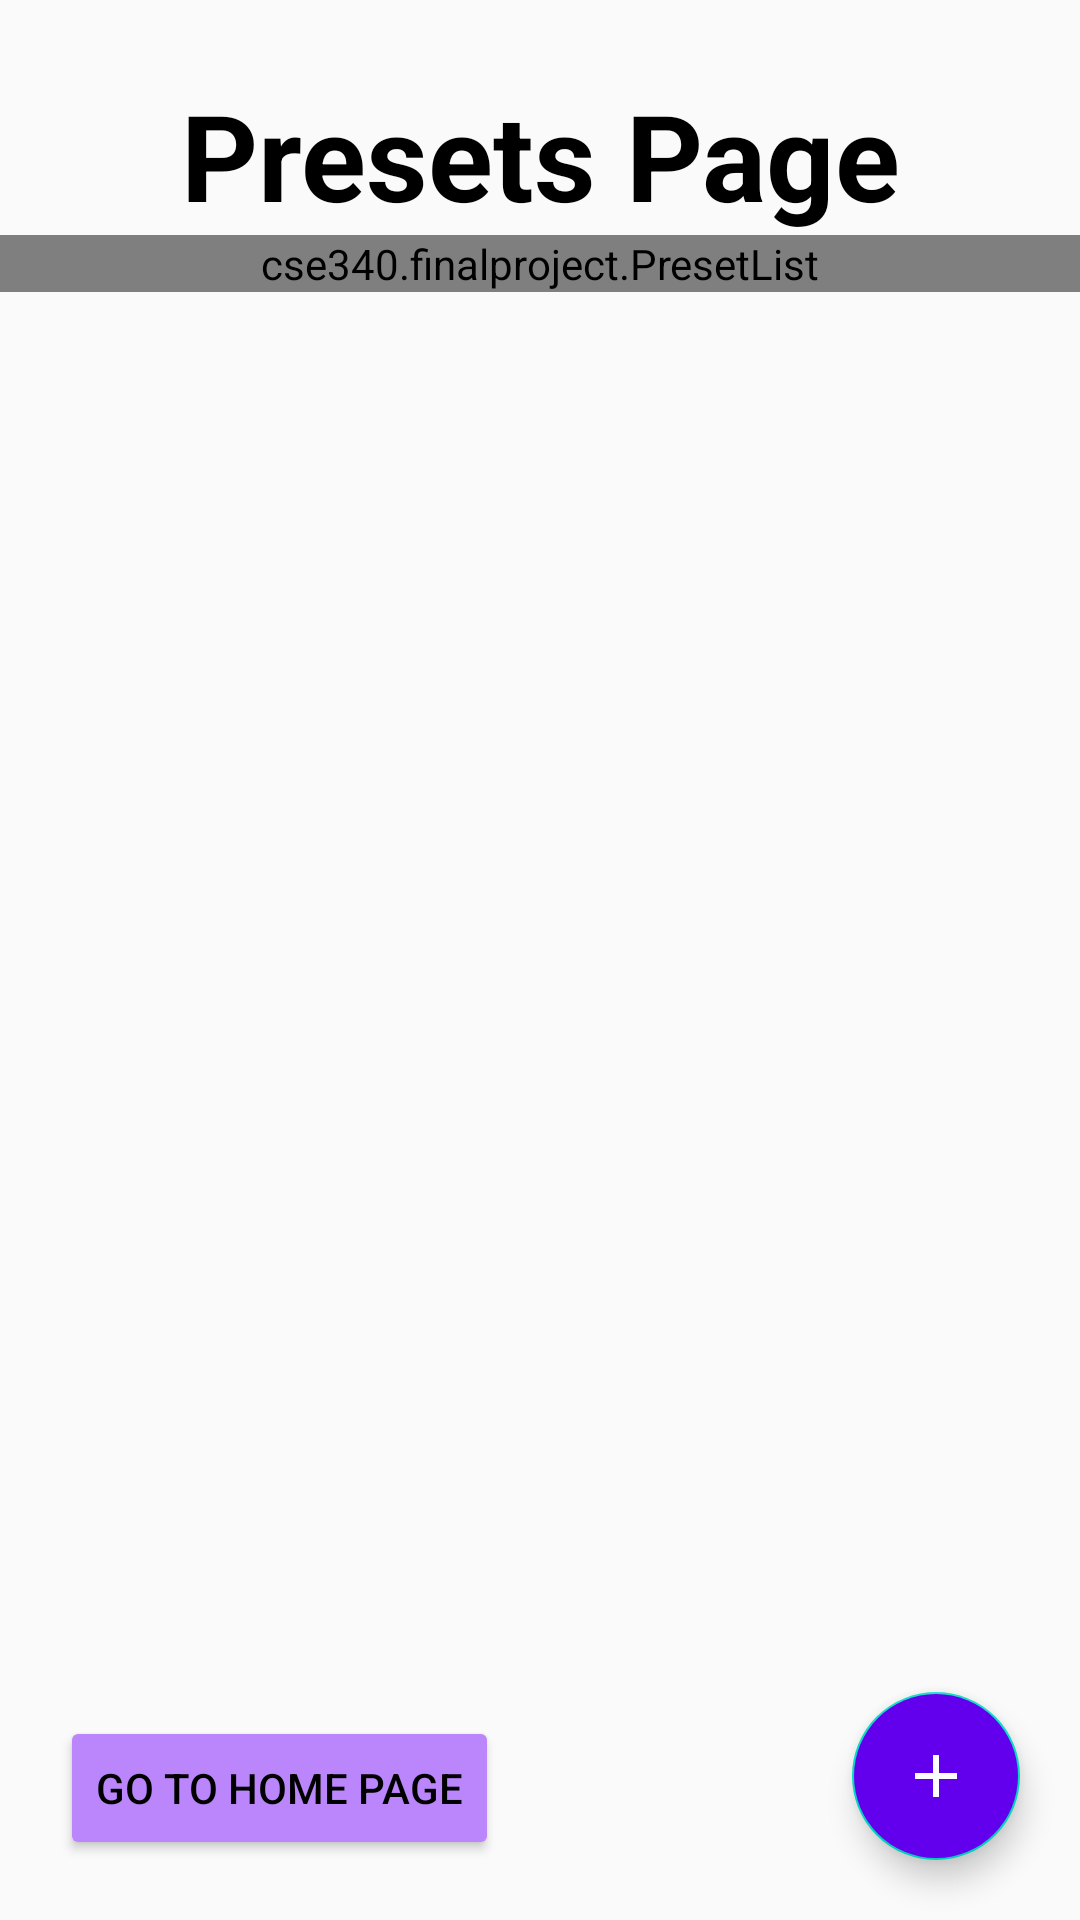

Icon bounding boxes for this 1080px x 1920px phone screenshot, format (x1, y1, x2, y2):
Add Preset: (852, 1692, 1020, 1860)
